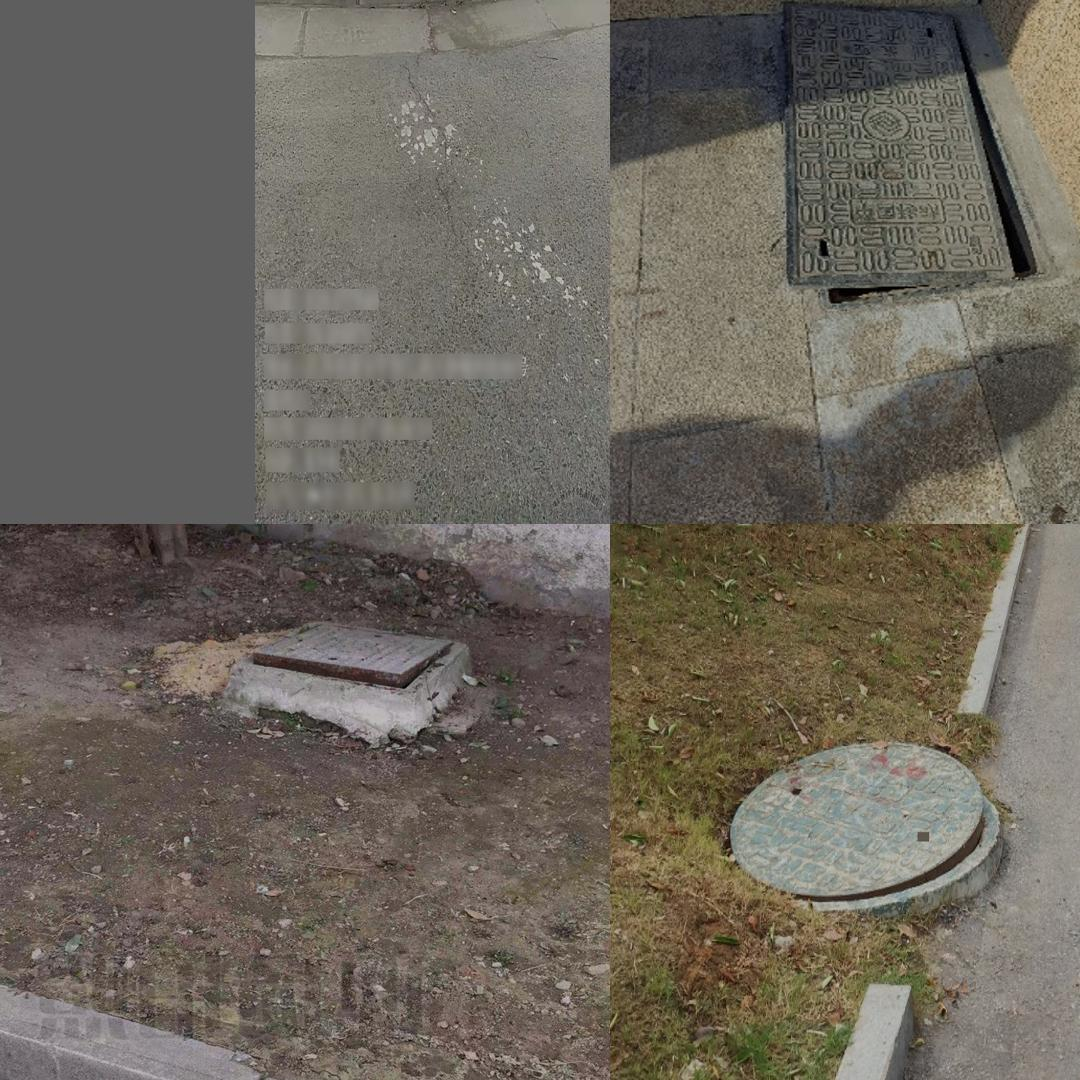uncovered: (786, 0, 1057, 309), (730, 741, 1003, 908), (246, 621, 466, 698)
